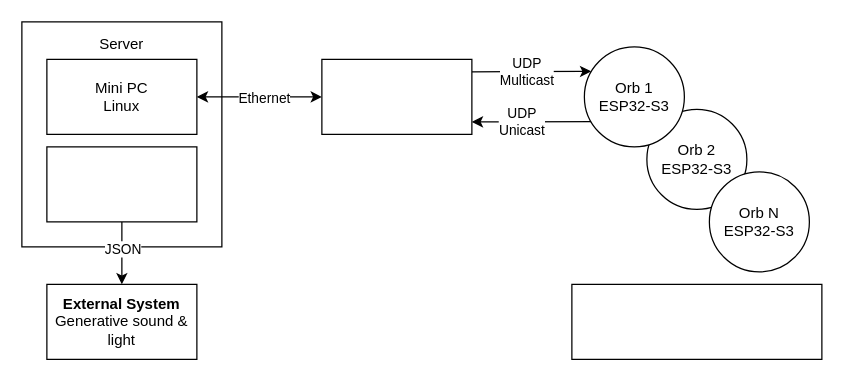
The diagram is 844 pixels wide and 381 high, and some of its shapes have lost their labels. Each missing label, with the centre of its shape:
"C++ server application" belongs at (121,184).
"Charging Station 27x Wireless Power Transmitters" belongs at (696,321).
"Ruckus R500 Wi-Fi Access Point" belongs at (396,96).
